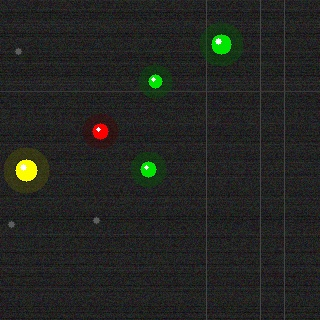green_normal: (209, 32, 233, 56), (138, 159, 158, 179), (146, 72, 164, 90)
red_fault: (90, 121, 110, 141)
yellow_warning: (13, 157, 39, 183)
